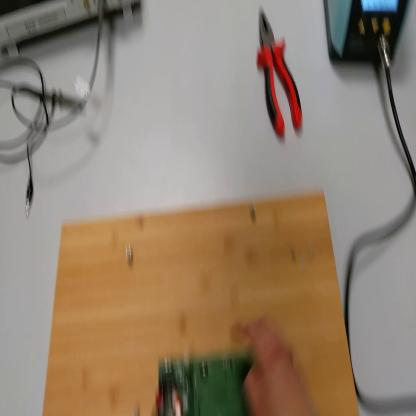hand: (239, 317, 315, 414)
low voltage board: (157, 350, 298, 416)
oscilloscope: (1, 1, 141, 59)
oscilloscope probe tip: (17, 80, 88, 113)
pliers: (258, 6, 304, 142)
welder station: (324, 3, 412, 76)
working area: (43, 187, 360, 413)
